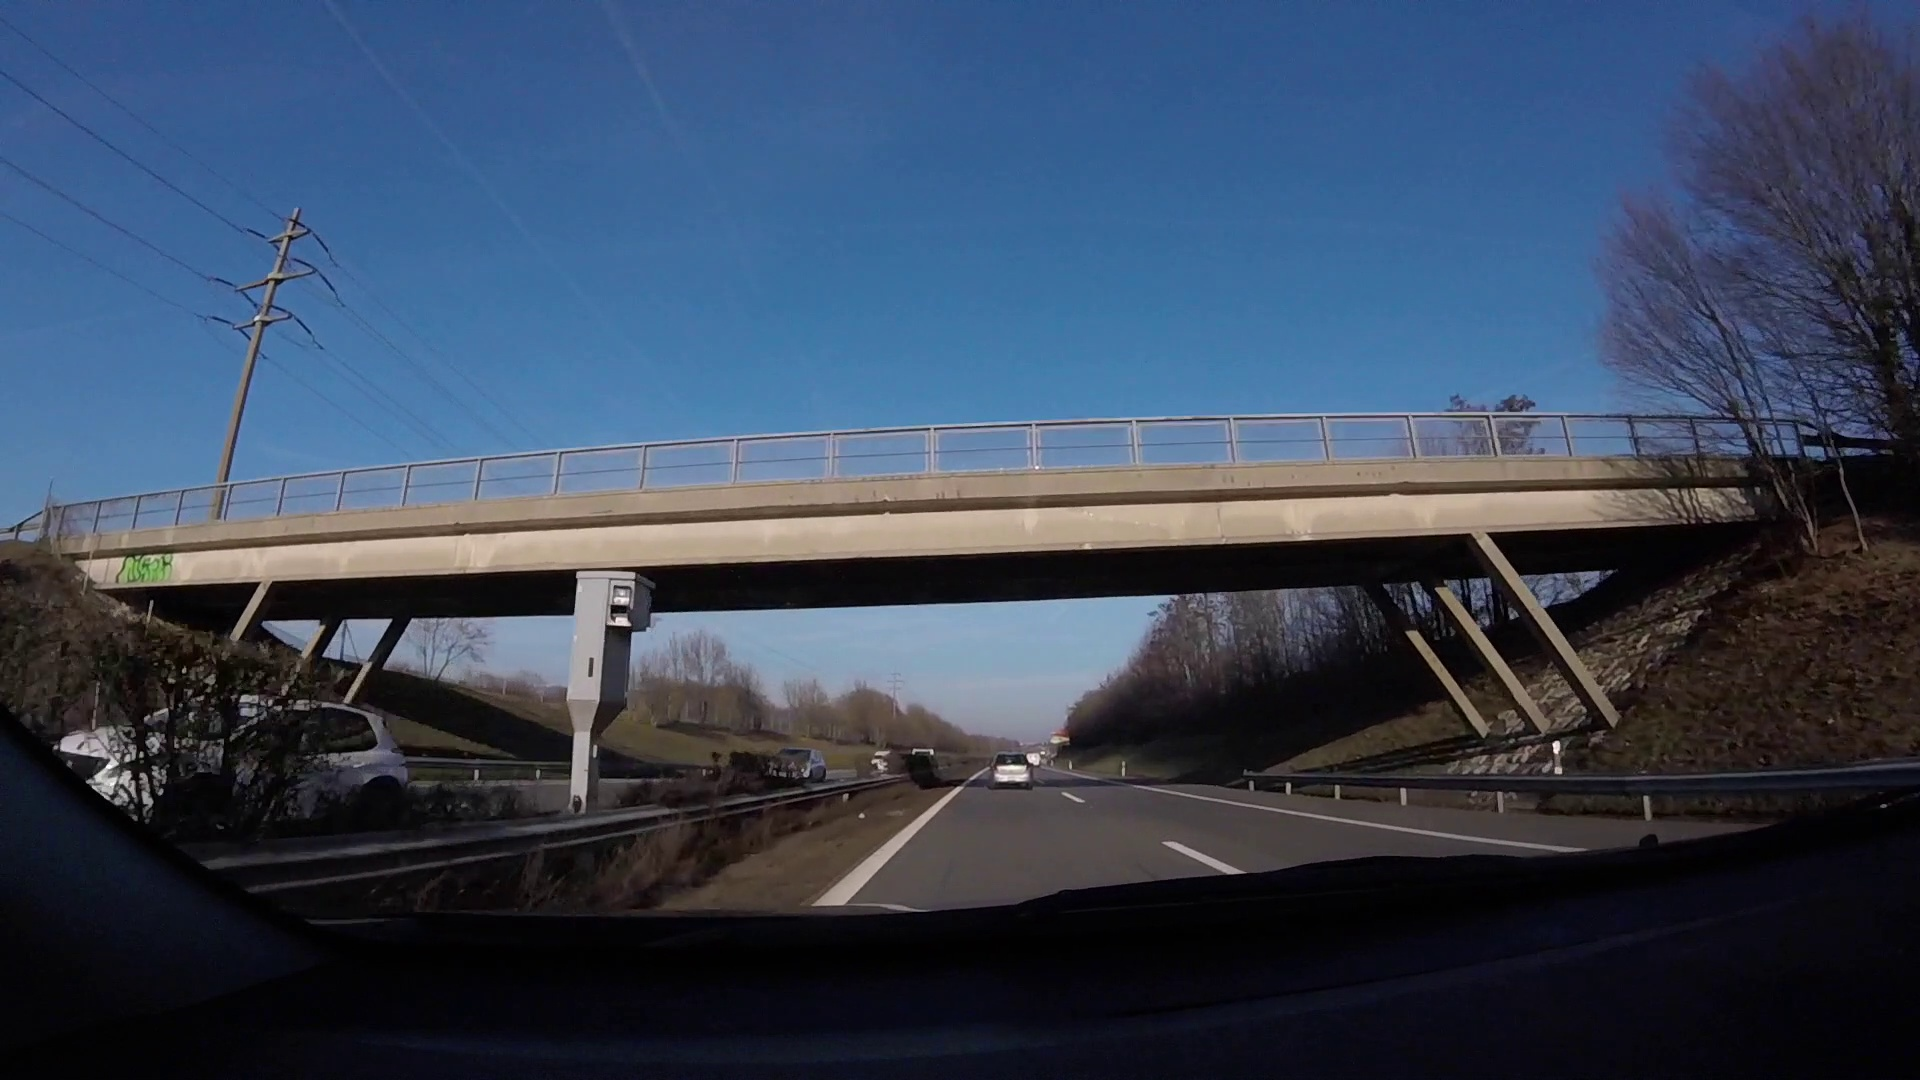radar: (567, 568, 657, 815)
